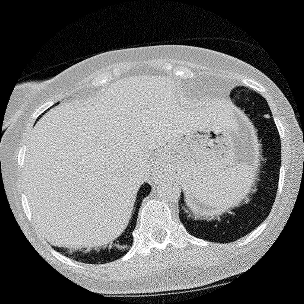nodule: (265, 114, 269, 118)
